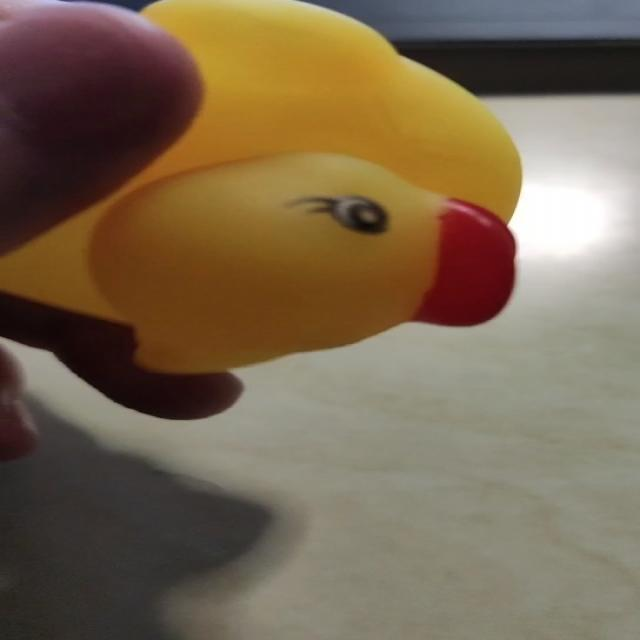rubber-duck: (0, 0, 519, 371)
